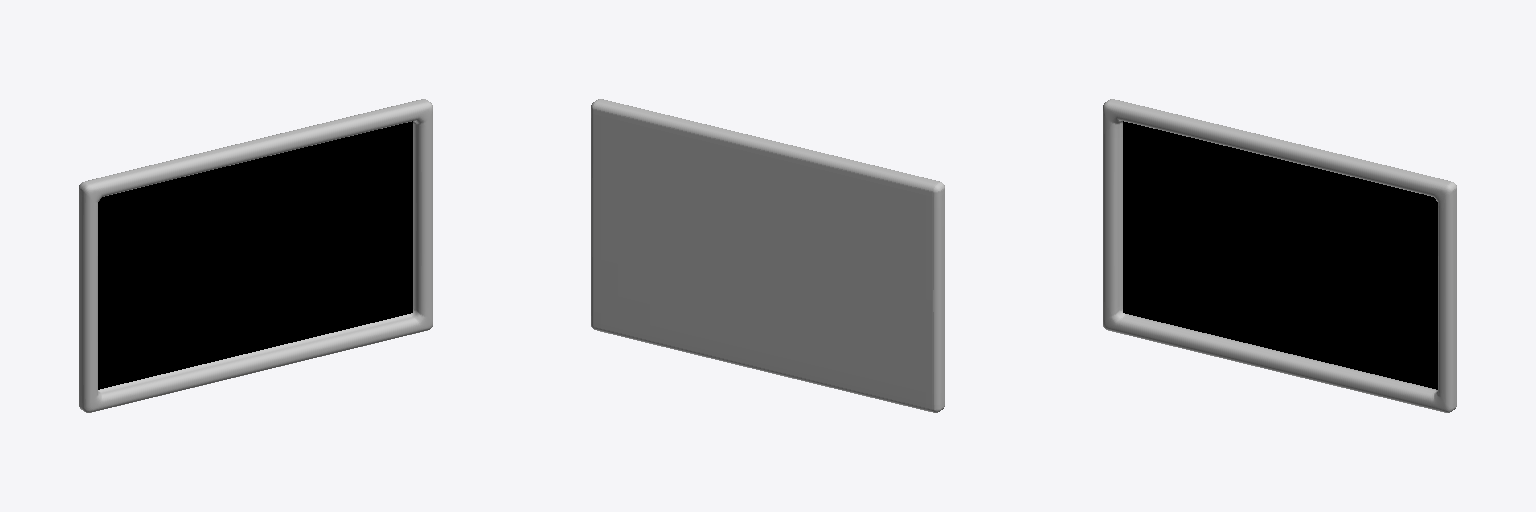
Rendered from Frame.obj.
The picture shows the model from 3 angles: view 1: azimuth 30°, elevation 25°; view 2: azimuth 150°, elevation 25°; view 3: azimuth 330°, elevation 25°; orthographic projection.
Visible parts, largest first — view 1: Frame.001_Cube.030; view 2: Frame.001_Cube.030; view 3: Frame.001_Cube.030.
Part boxes in pixels (x1,y1,x2,y2): Frame.001_Cube.030: (79, 99, 432, 412); Frame.001_Cube.030: (591, 99, 944, 412); Frame.001_Cube.030: (1103, 99, 1456, 412).
Size of the model in its own units: 4.94 by 3.09 by 0.2445.